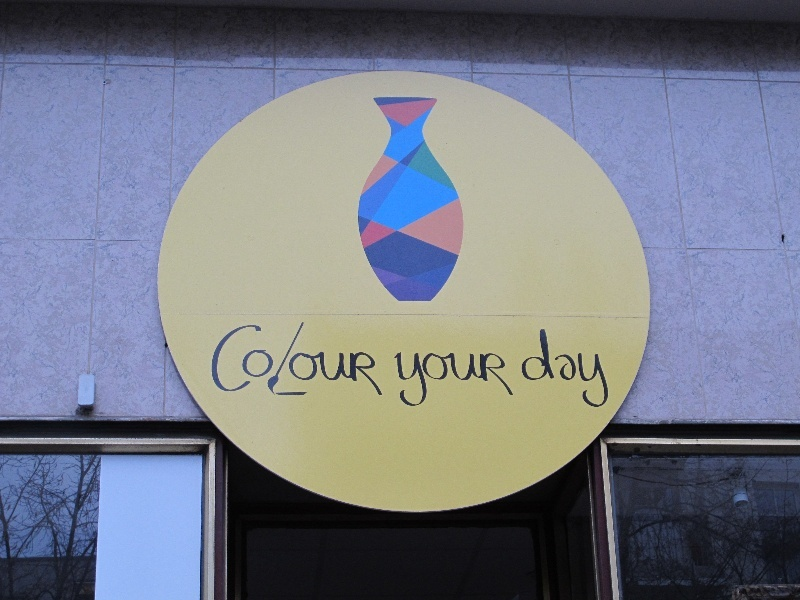text: (529, 326, 544, 412), (545, 326, 560, 412), (561, 326, 576, 412), (577, 326, 592, 412), (593, 326, 608, 412), (209, 317, 224, 400), (225, 317, 240, 400), (241, 317, 256, 400), (257, 317, 272, 400), (273, 317, 288, 400), (289, 317, 304, 400), (305, 317, 320, 400), (321, 317, 336, 400), (337, 317, 352, 400), (353, 317, 368, 400), (369, 317, 384, 400), (401, 347, 416, 413), (417, 347, 432, 413), (433, 347, 448, 413), (449, 347, 464, 413), (465, 347, 480, 413), (481, 347, 496, 413), (497, 347, 512, 413), (520, 326, 528, 412), (392, 347, 400, 413), (609, 326, 615, 412), (513, 347, 518, 413), (206, 317, 208, 400), (385, 317, 387, 400)
